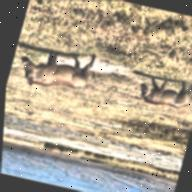boar: (5, 35, 104, 115), (124, 61, 192, 121)
